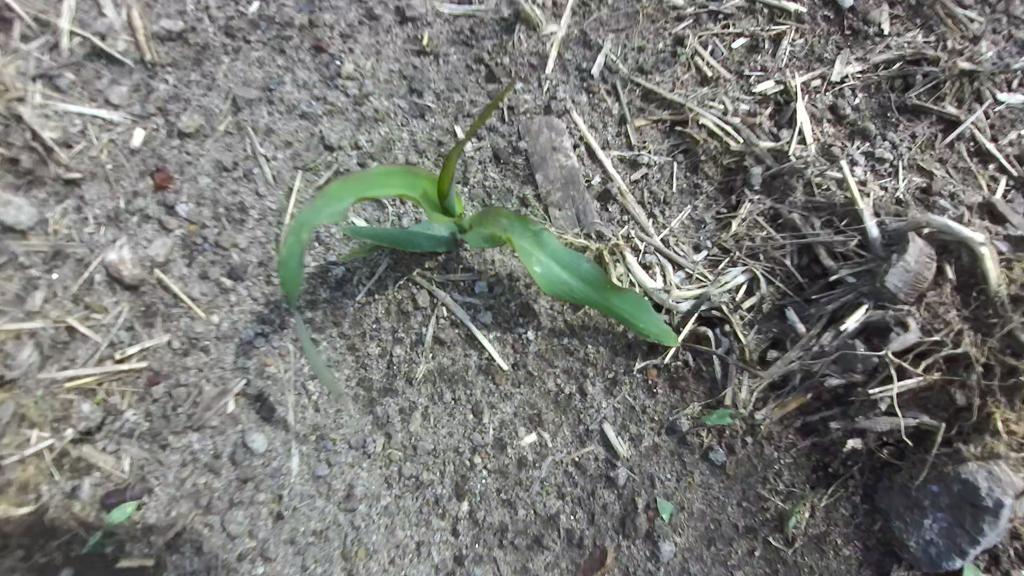BroWeed: (72, 489, 145, 557), (647, 491, 690, 535), (772, 491, 805, 543), (0, 494, 50, 519), (689, 406, 745, 426), (149, 166, 174, 190), (963, 561, 985, 576), (94, 388, 104, 404), (131, 509, 143, 522)
Maize: (237, 68, 685, 509)
